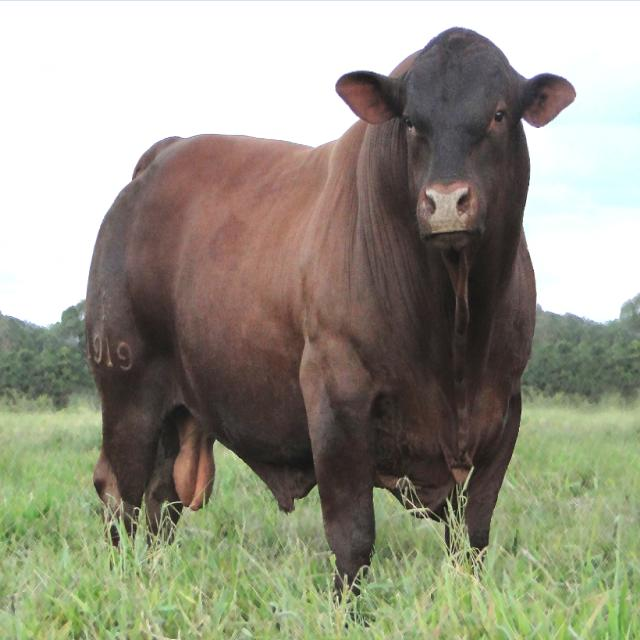cowFace: (327, 22, 582, 286)
